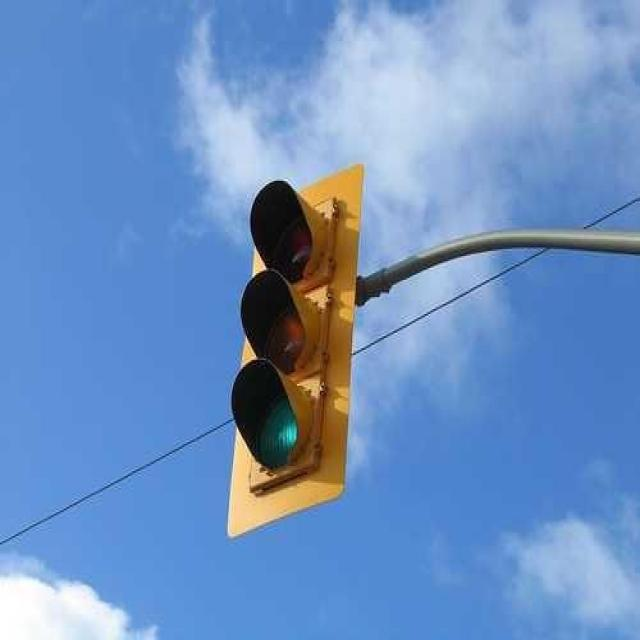Traffic Light -Green-: (222, 155, 326, 517)
